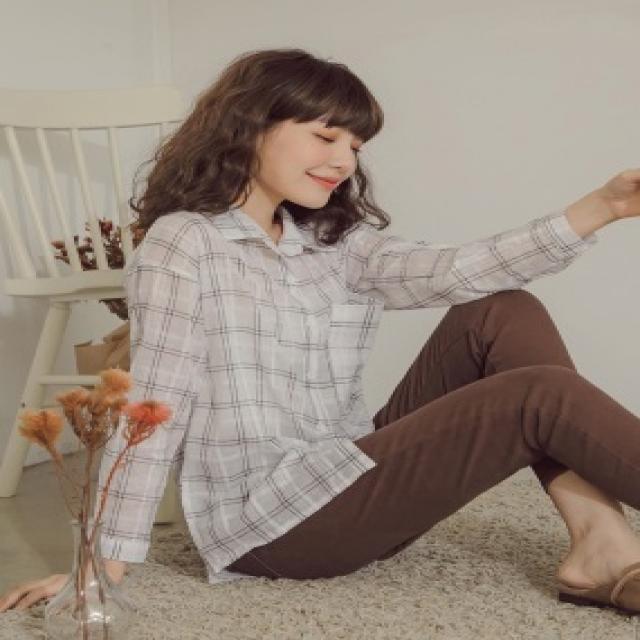plaid: (76, 194, 519, 533)
